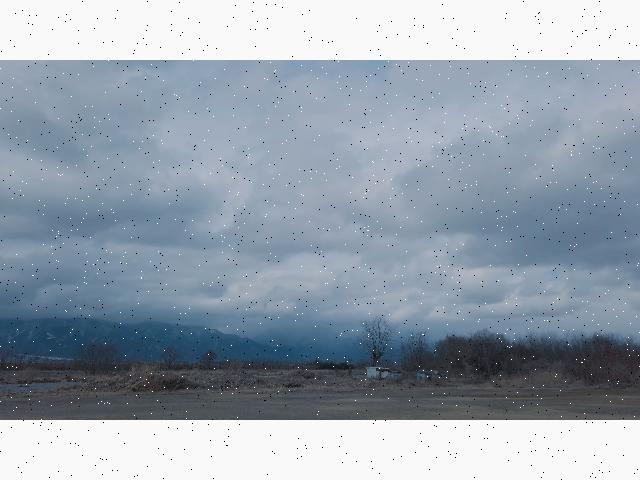Anti-Drone: (354, 225, 368, 233)
